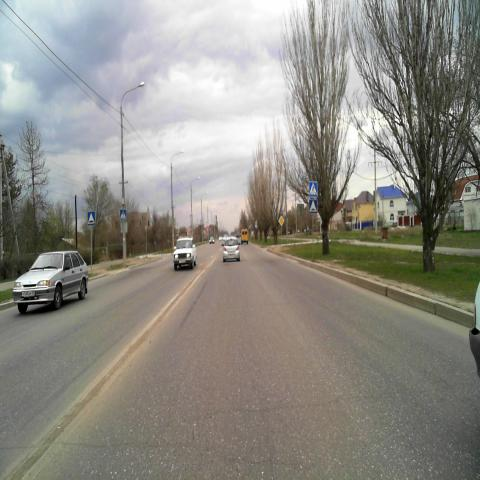5_20: (309, 198, 317, 214)
